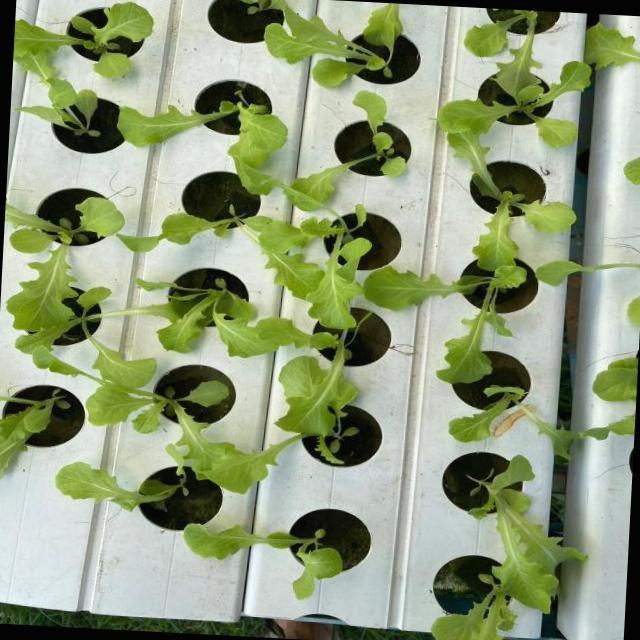Lettuce-Not-Ready-to-Harvest: (443, 126, 576, 270), (365, 265, 527, 383), (5, 197, 124, 352), (119, 212, 324, 298), (118, 101, 287, 194), (137, 281, 339, 357), (487, 456, 584, 612), (87, 380, 238, 477), (283, 91, 406, 210), (69, 288, 171, 425), (449, 385, 635, 458), (438, 62, 591, 147), (185, 524, 343, 599), (265, 0, 401, 86), (15, 2, 153, 77), (300, 206, 371, 330), (56, 445, 187, 510), (465, 10, 540, 103), (276, 350, 357, 436), (18, 52, 99, 136), (201, 435, 299, 493), (0, 390, 62, 477), (432, 585, 516, 640)
